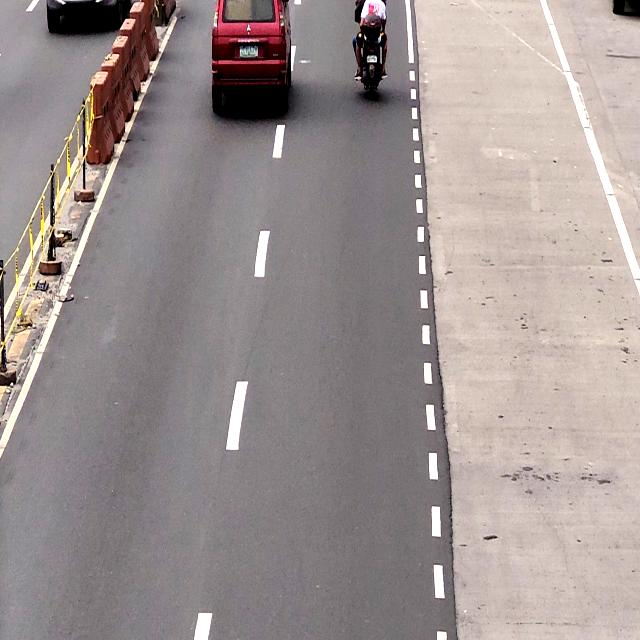Car: (212, 0, 292, 111)
License-Plate: (238, 42, 260, 59)
Motorcycle: (352, 0, 392, 101)
